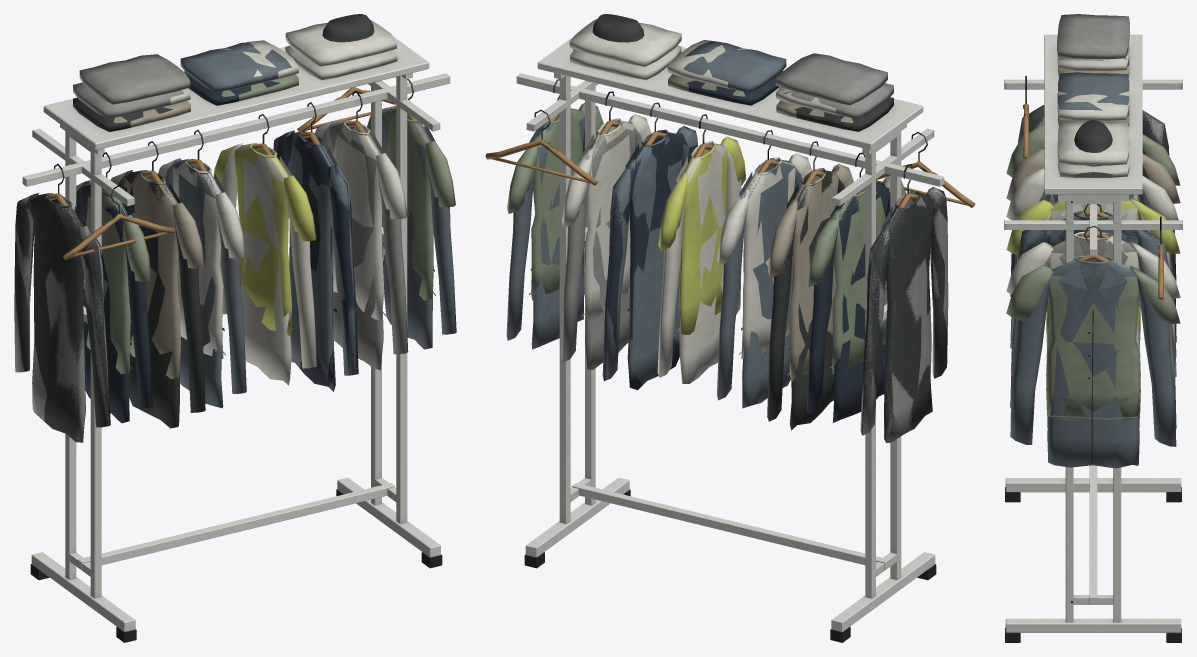
The model's file is garment_rack.glb.
3 renders of one model, left to right at view 1: azimuth 30°, elevation 25°; view 2: azimuth 150°, elevation 25°; view 3: azimuth 270°, elevation 25°, orthographic. The views are drawn at different scales.
Parts seen in each view (by area): view 1: ClothesCasual, ClothesFormal, RackFrame; view 2: ClothesCasual, ClothesFormal, RackFrame; view 3: ClothesCasual, ClothesFormal, RackFrame.
Part boxes in pixels (box(x1,y1,x2,y2)): ClothesCasual: box(14, 14, 455, 442); ClothesFormal: box(14, 20, 456, 442); RackFrame: box(22, 36, 450, 642); ClothesCasual: box(507, 14, 947, 442); ClothesFormal: box(506, 19, 948, 442); RackFrame: box(485, 36, 975, 642); ClothesCasual: box(1006, 14, 1180, 420); ClothesFormal: box(1010, 40, 1176, 468); RackFrame: box(1004, 34, 1182, 642).
Bounding box in the file's own units: 1.57 × 1.85 × 0.607.
Materials: 1 (1 with a texture image).
